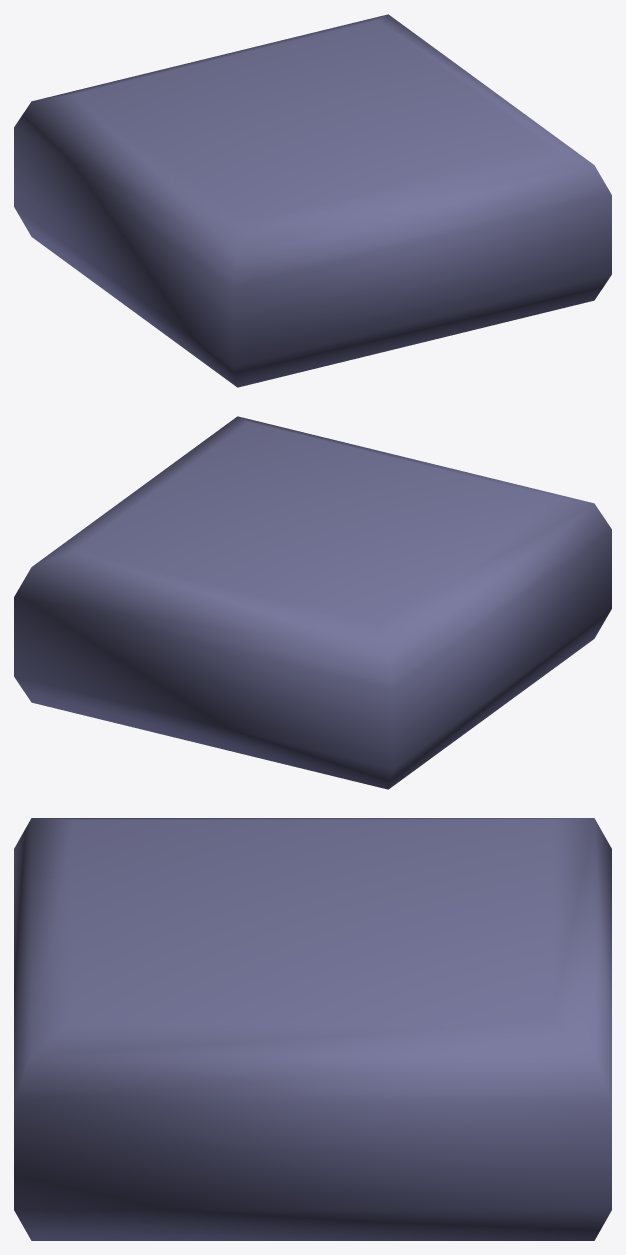
File: kenney-factory-conveyor-sides-cross.glb
The picture shows the model from 3 angles, top to bottom: view 1: azimuth 30°, elevation 25°; view 2: azimuth 150°, elevation 25°; view 3: azimuth 270°, elevation 25°; orthographic projection. The views are drawn at different scales.
Parts seen in each view (by area): view 1: conveyor-sides-cross; view 2: conveyor-sides-cross; view 3: conveyor-sides-cross.
Boxes of the visible parts, left/top/right/bottom form: conveyor-sides-cross: left=14, top=14, right=611, bottom=387; conveyor-sides-cross: left=14, top=416, right=611, bottom=789; conveyor-sides-cross: left=14, top=818, right=611, bottom=1240.
Size of the model in its own units: 1 by 0.3999 by 1.
1 material, 1 textured.
